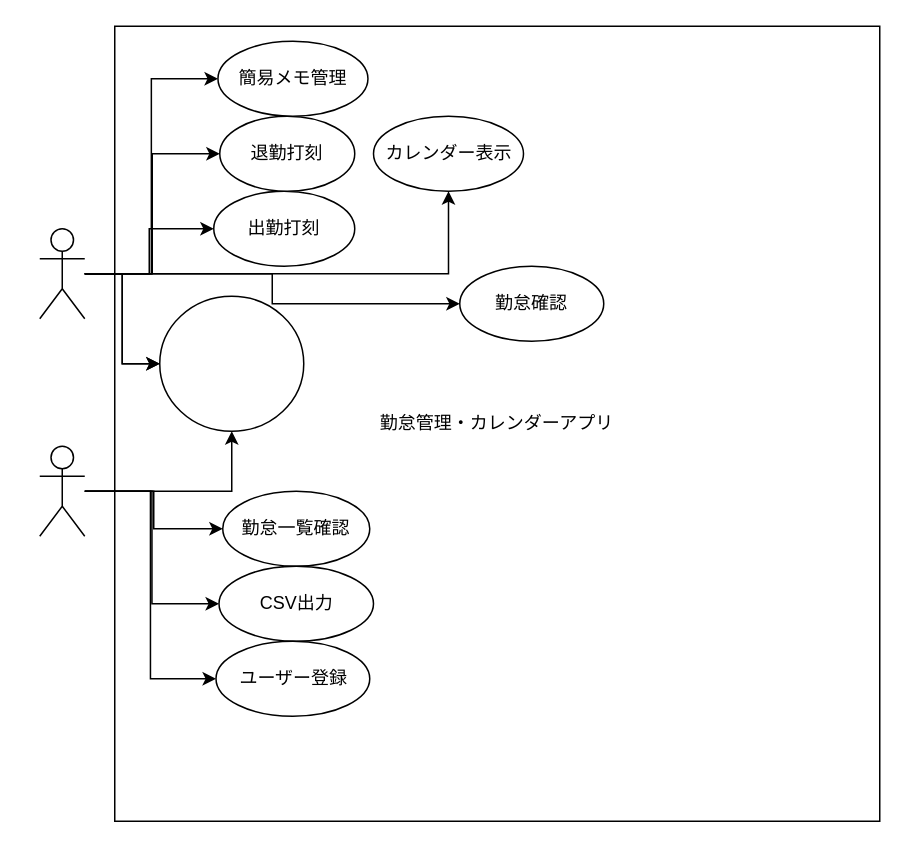
The diagram is 906 pixels wide and 848 high, and some of its shapes have lost their labels. Each missing label, with the box of its shape:
ログイン: (158, 295, 304, 431)
一般社員: (38, 227, 85, 319)
管理者: (38, 445, 85, 536)
